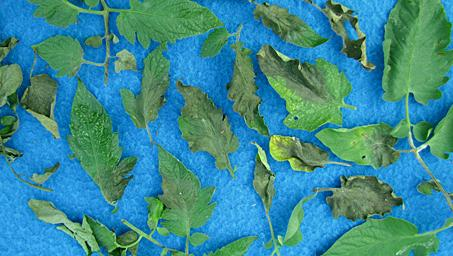Tomato leaf late blight: (258, 35, 357, 132), (375, 0, 453, 116), (65, 83, 137, 208), (153, 147, 219, 242), (175, 85, 241, 178), (114, 0, 239, 46), (221, 42, 276, 140), (126, 44, 177, 140), (250, 0, 339, 52), (318, 120, 404, 173), (193, 236, 259, 256)
